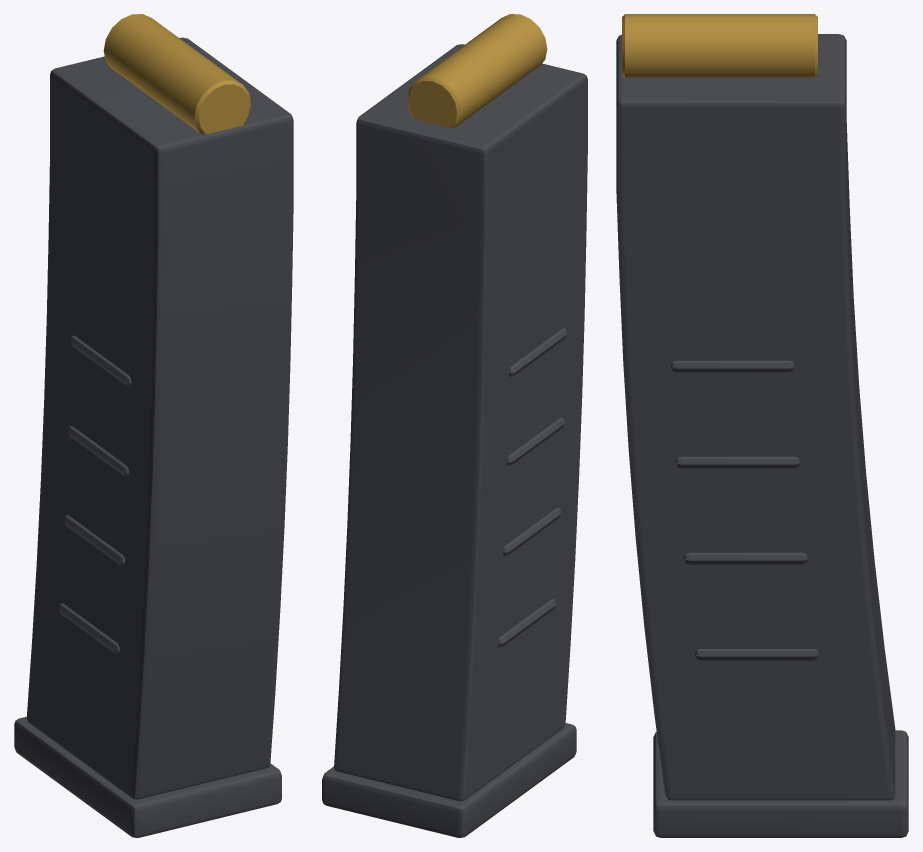
The model's file is mod_bastion_standard_mag.glb.
The picture shows the model from 3 angles, left to right: view 1: azimuth 30°, elevation 25°; view 2: azimuth 150°, elevation 25°; view 3: azimuth 270°, elevation 25°; orthographic projection. The views are drawn at different scales.
Visible parts, largest first — view 1: Magazine, MagazineRound; view 2: Magazine, MagazineRound; view 3: Magazine, MagazineRound.
Part boxes in pixels (bbox=[...]): Magazine: bbox=[14, 37, 293, 837]; MagazineRound: bbox=[103, 14, 251, 134]; Magazine: bbox=[322, 44, 587, 837]; MagazineRound: bbox=[407, 14, 547, 127]; Magazine: bbox=[616, 34, 908, 837]; MagazineRound: bbox=[622, 14, 817, 77].
Size of the model in its own units: 0.0294 by 0.1398 by 0.0472.
